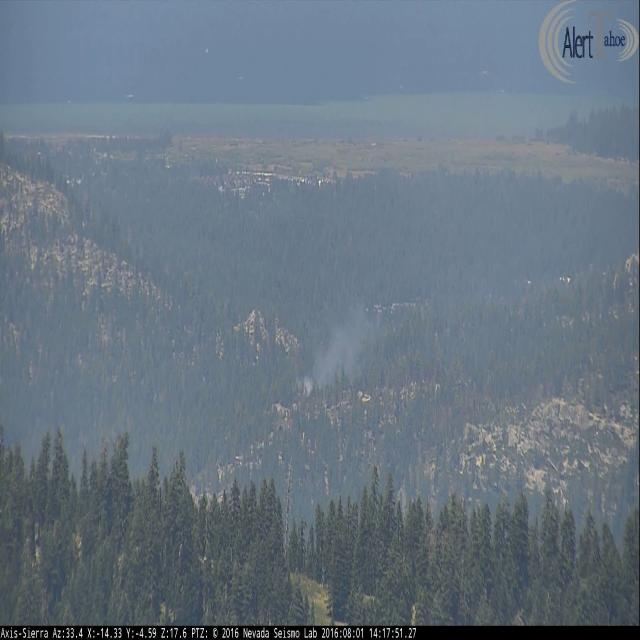smoke: (303, 300, 363, 396)
